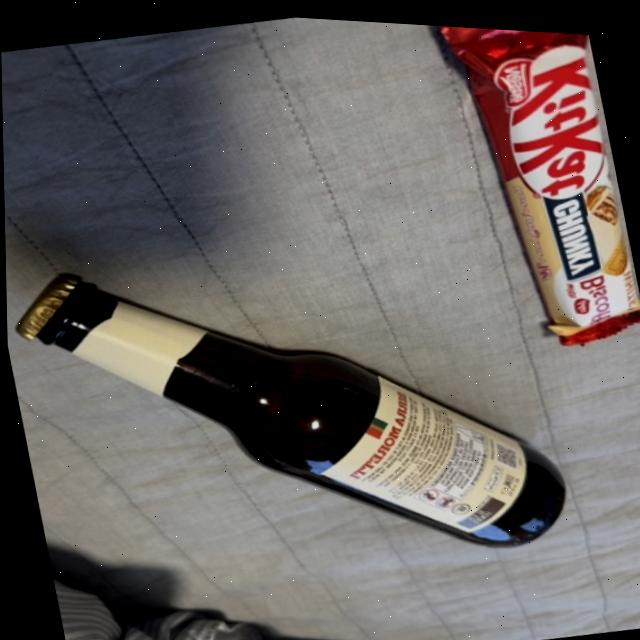beer: (3, 186, 577, 624)
chocolate: (421, 20, 640, 366)
